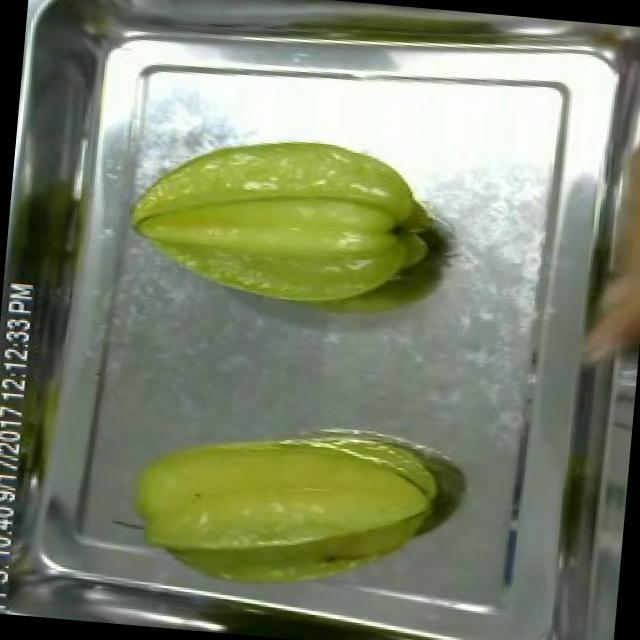fruit: (110, 403, 457, 610), (108, 118, 452, 326), (582, 90, 640, 376)
